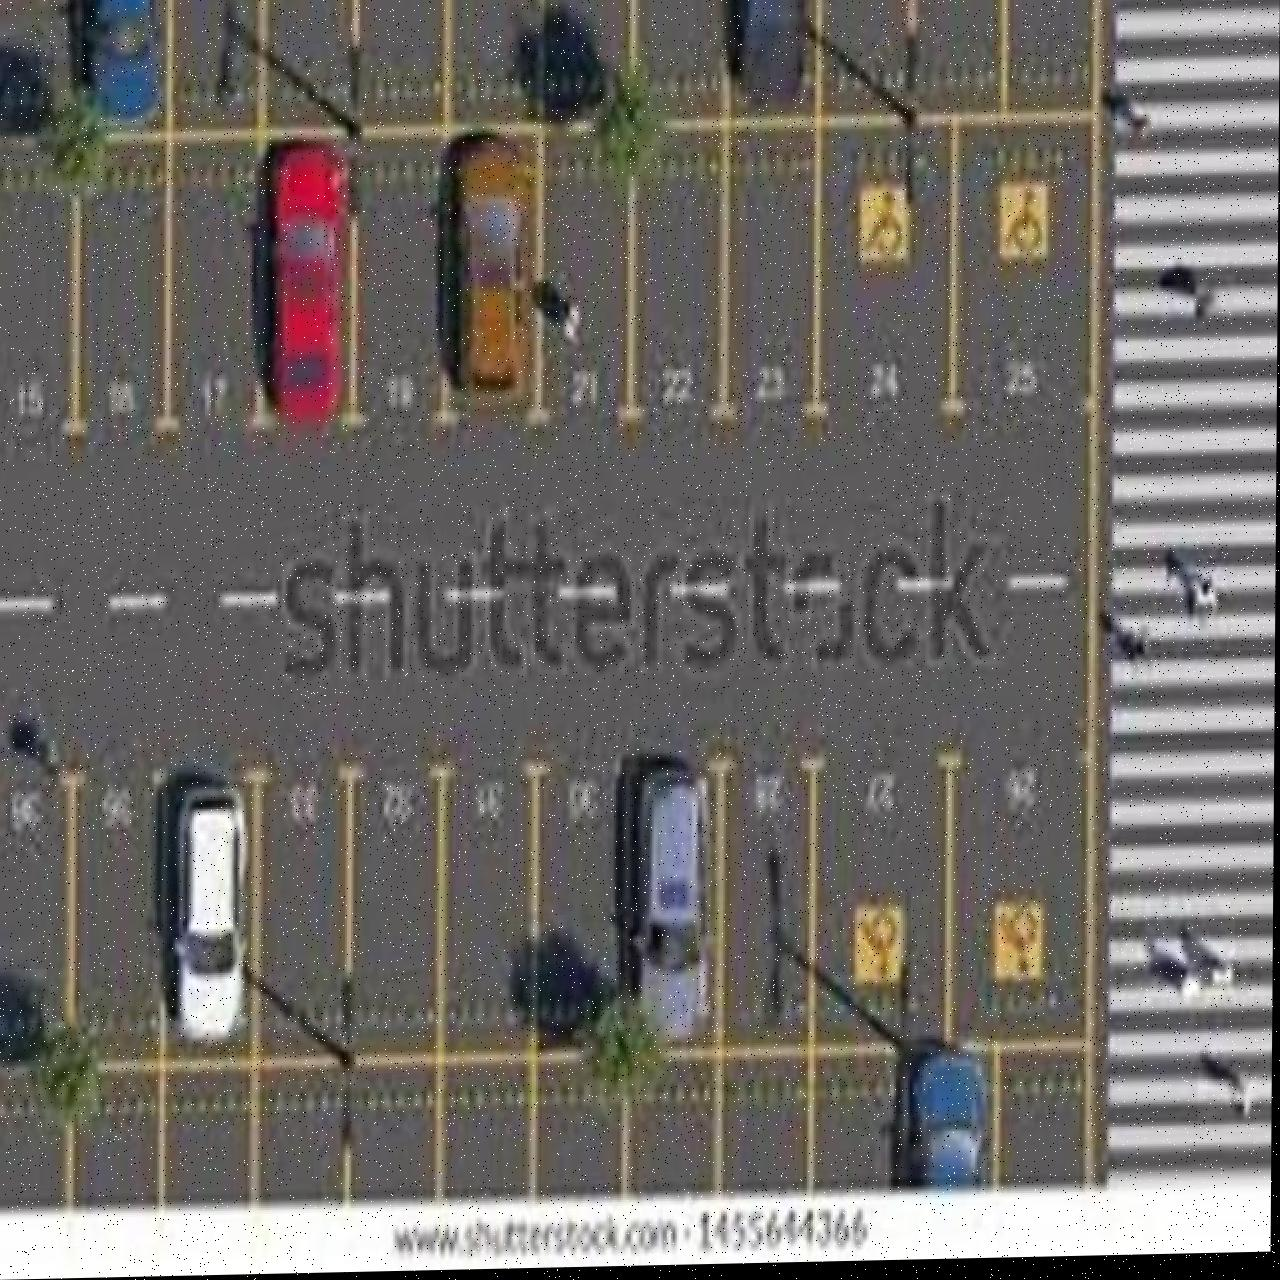car: (247, 138, 355, 430), (612, 754, 715, 1047), (431, 130, 537, 396), (154, 770, 252, 1046), (887, 1041, 989, 1192), (508, 925, 614, 1041), (80, 0, 166, 127), (720, 0, 808, 111), (1146, 926, 1237, 1002), (1199, 1051, 1272, 1126), (0, 39, 52, 134), (0, 969, 48, 1064)
